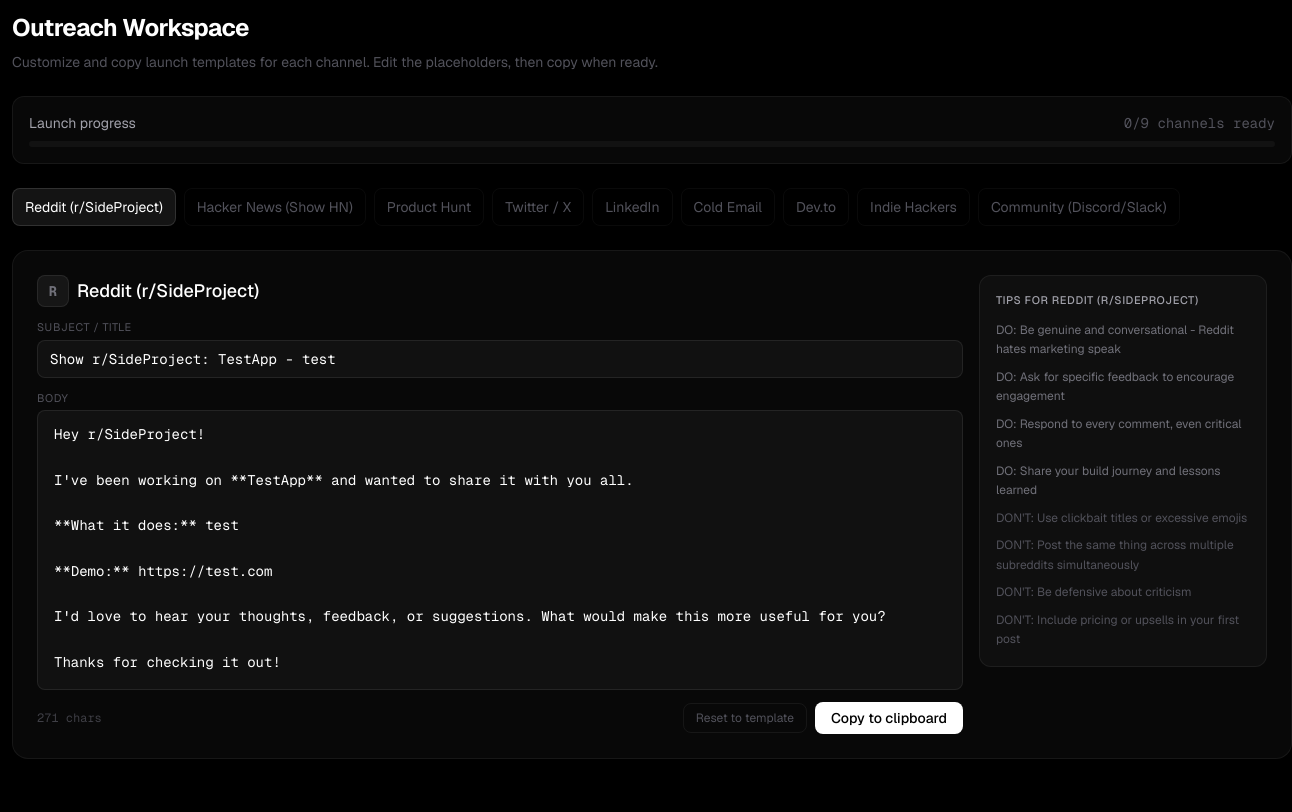
Test case: OutreachWorkspace › switches active template when tab is clicked
The image size is (1292, 812).
# Click on the second template tab
What coordinates should you click on to do the following:
click the button "Hacker News (Show HN)"
I would click on:
 (275, 207)
Its box is [184, 188, 366, 226].
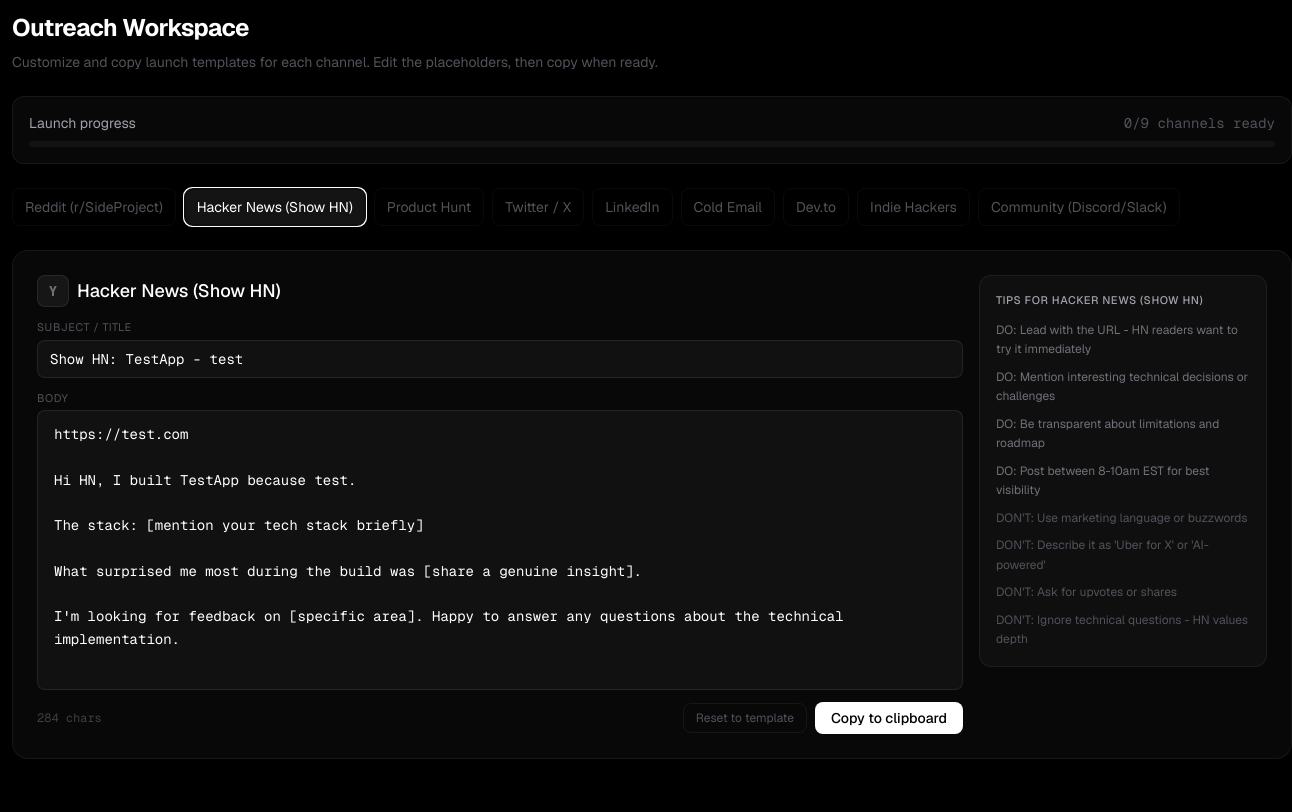
Expected: the heading "Hacker News (Show HN)" is shown, [77, 277, 281, 305]
